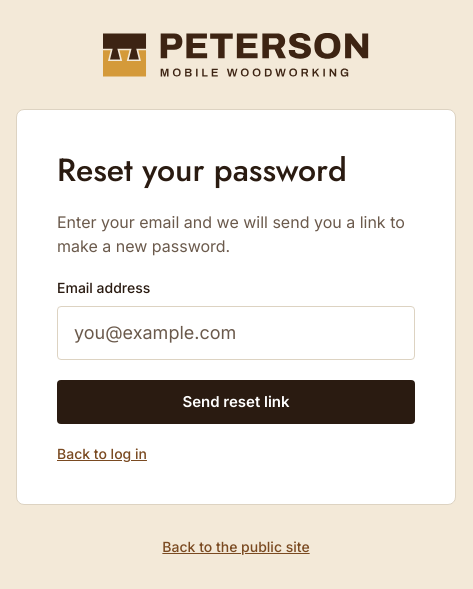
Test: ForgotPasswordPage › shows the failed error and keeps the form
The image size is (473, 589).
In the field labelled "Email address": x=236, y=333 [57,306,415,360], type "girlie@example.com"
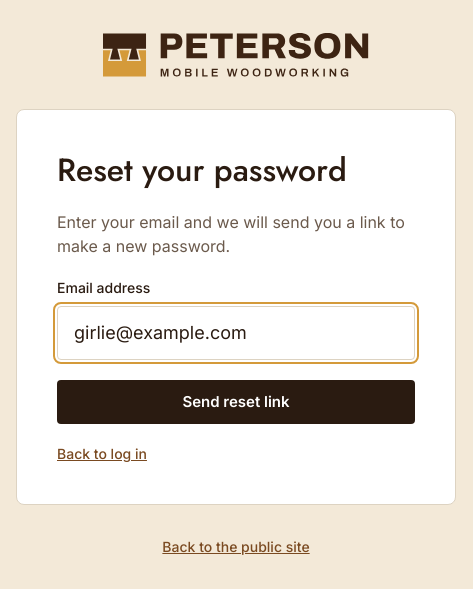
Click the button "Send reset link": x=236, y=402 [57,380,415,424]
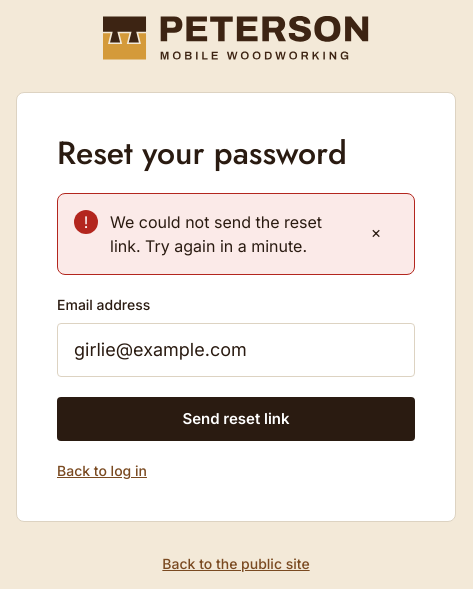
Now the message shows "We could not send the reset link. Try again in a minute.", box [110,212,322,256]
